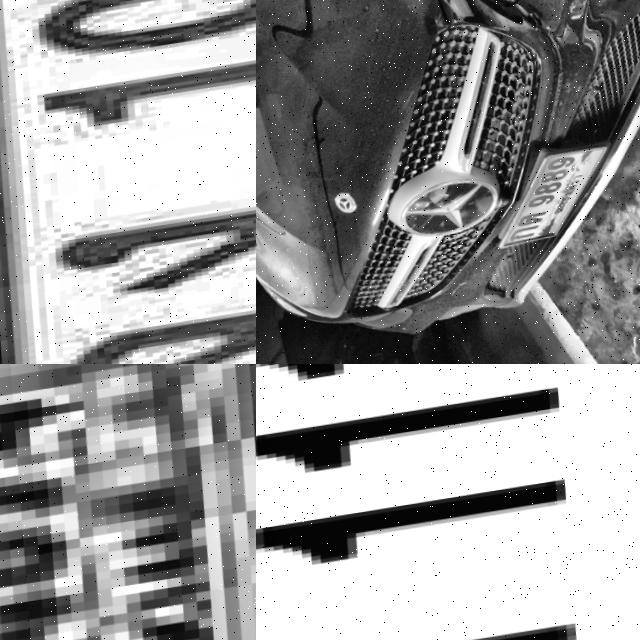license-plate: (256, 364, 640, 640), (0, 0, 256, 364), (0, 364, 256, 640), (486, 143, 630, 254)
